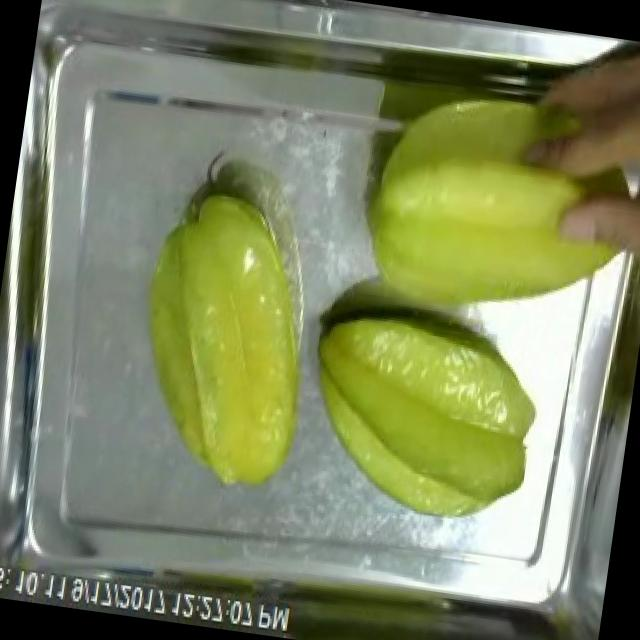fruit: (339, 67, 640, 354), (108, 169, 342, 505), (288, 297, 557, 537), (263, 558, 539, 640)
